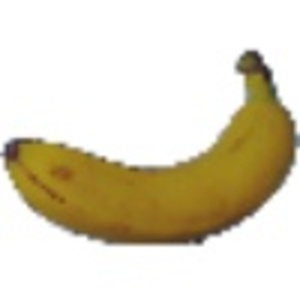banana: (3, 42, 297, 250)
